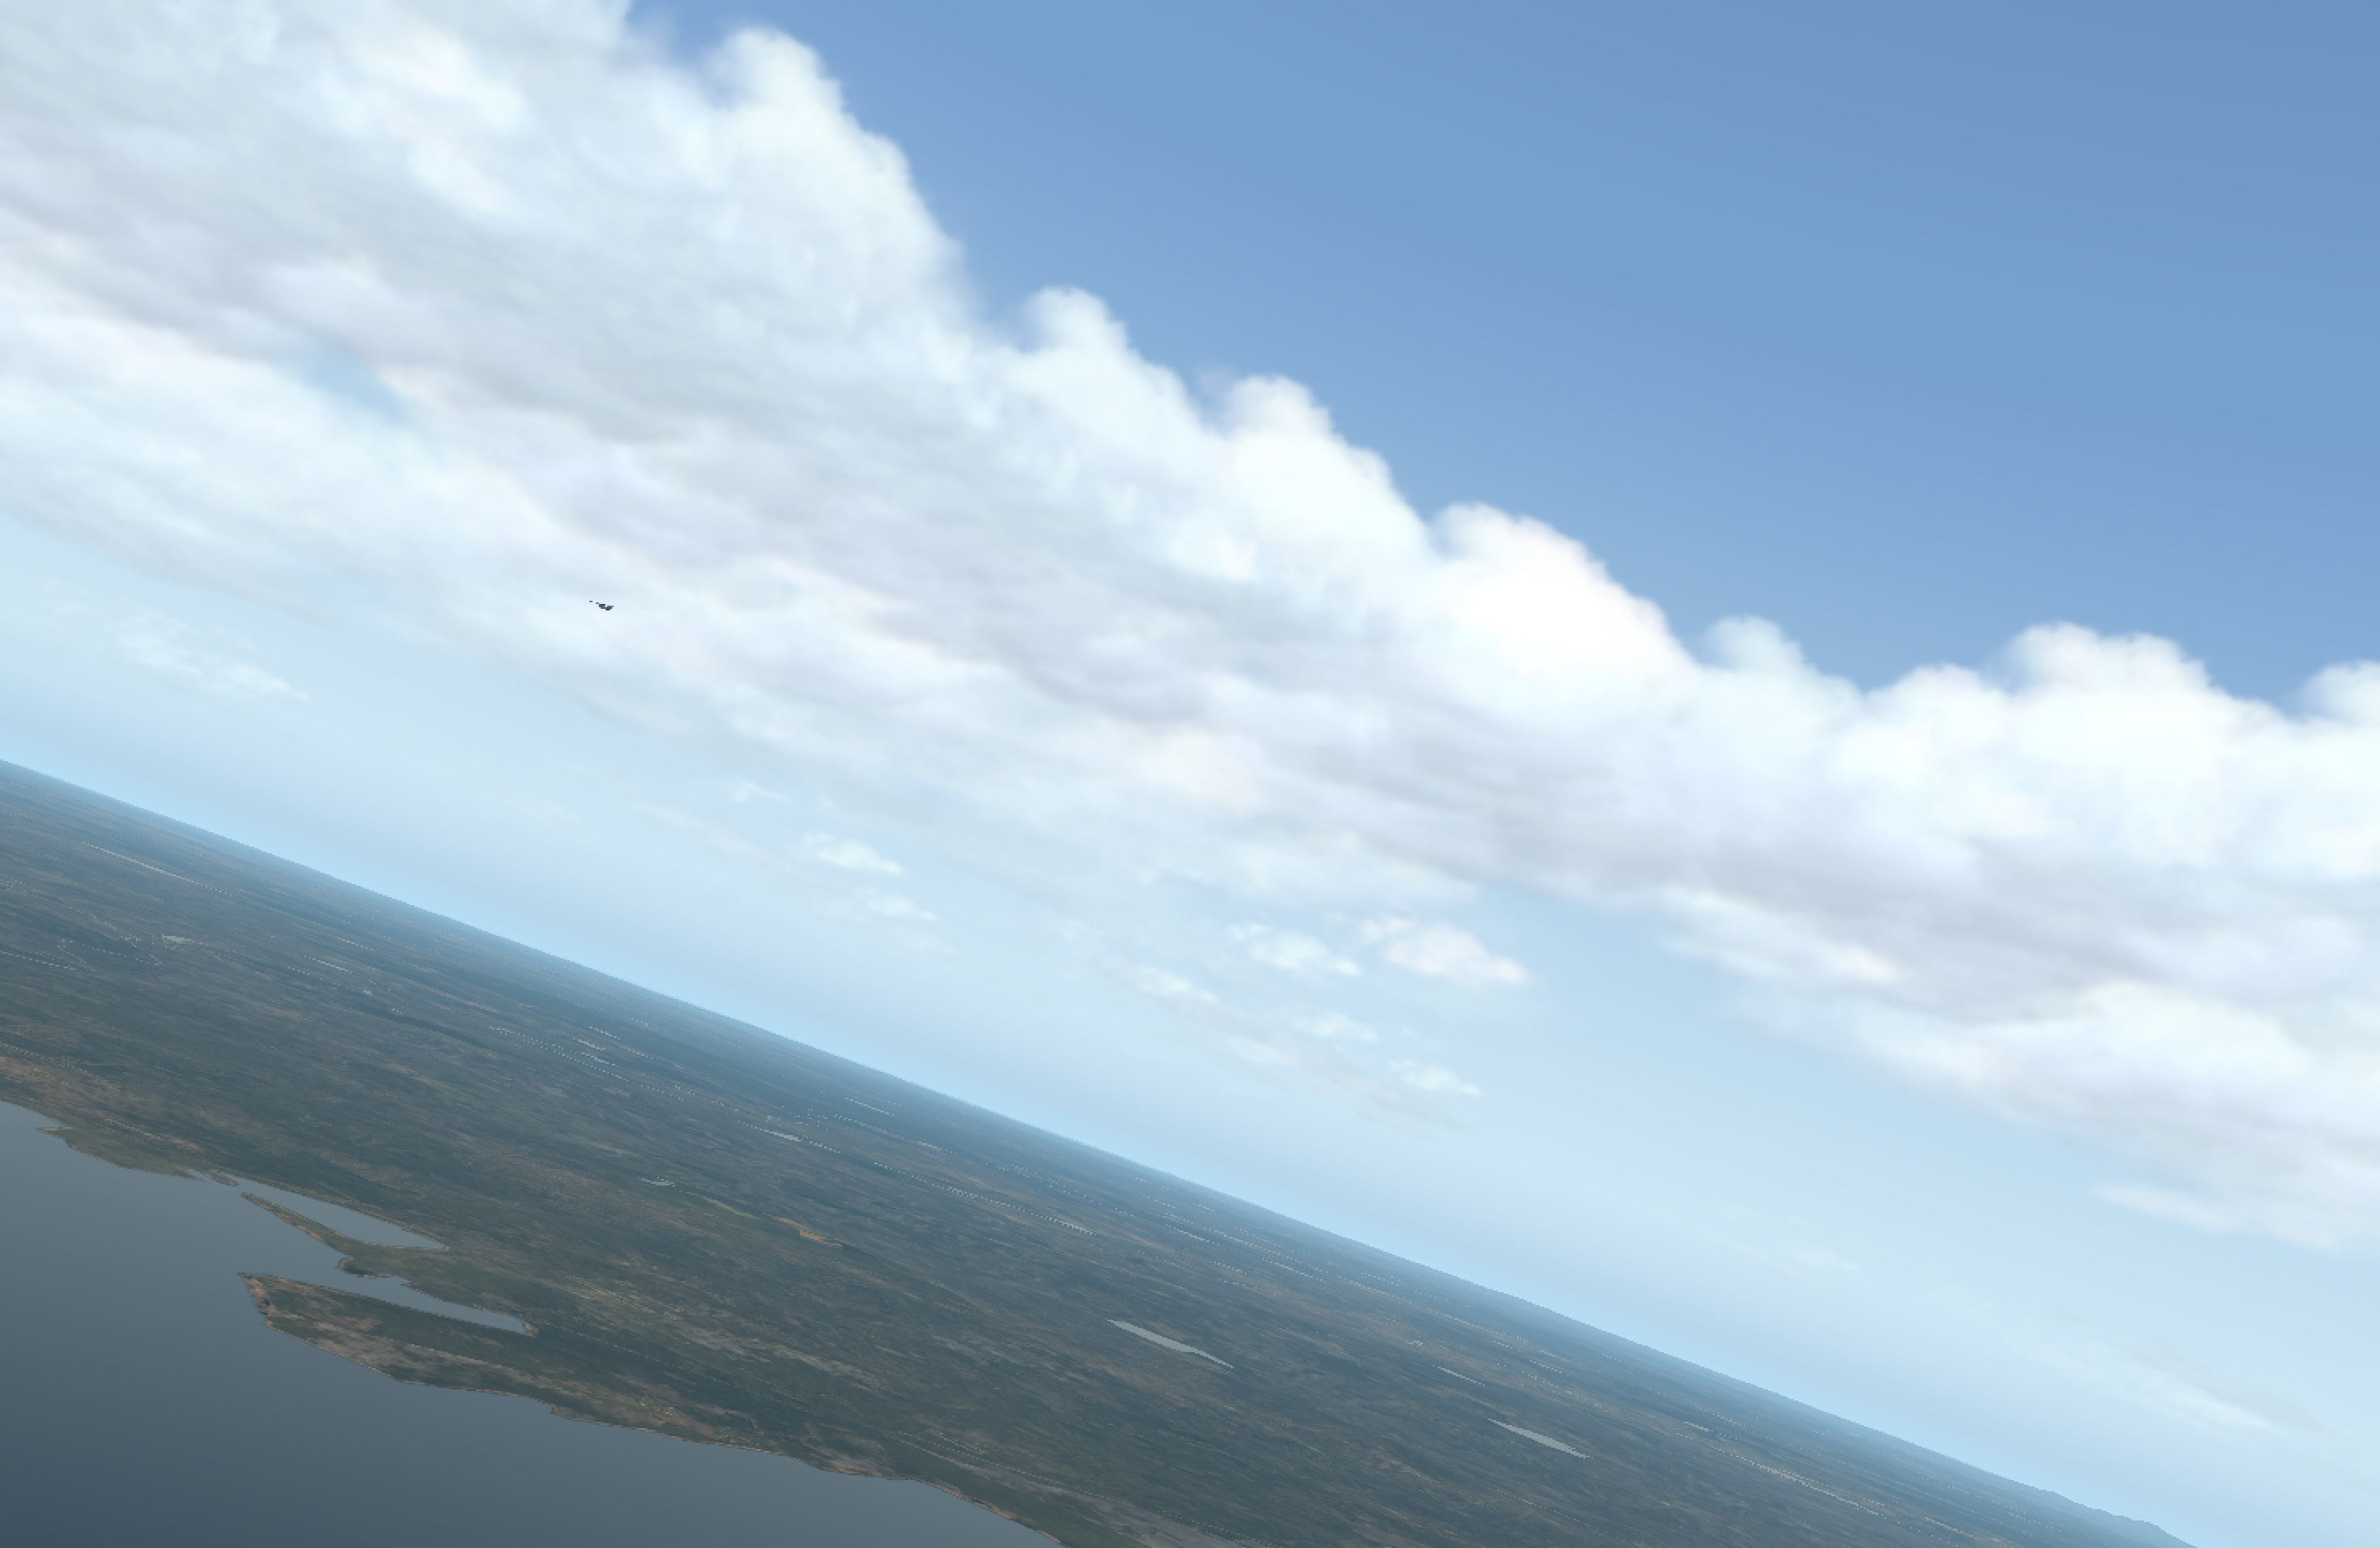aircraft: (592, 602, 614, 611)
